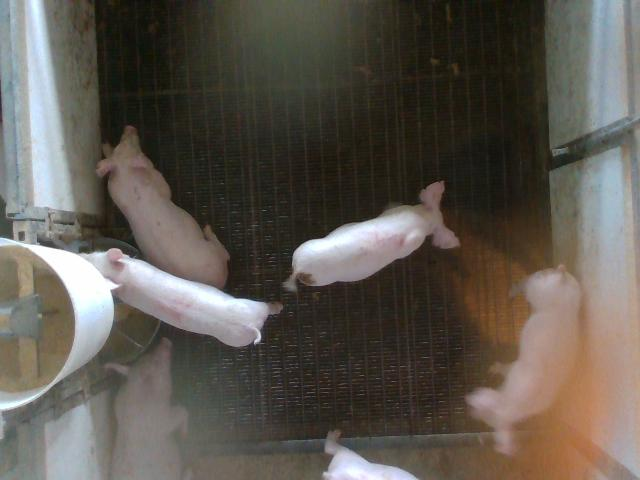pig-4: (81, 249, 282, 347)
pig-5: (284, 182, 459, 291)
